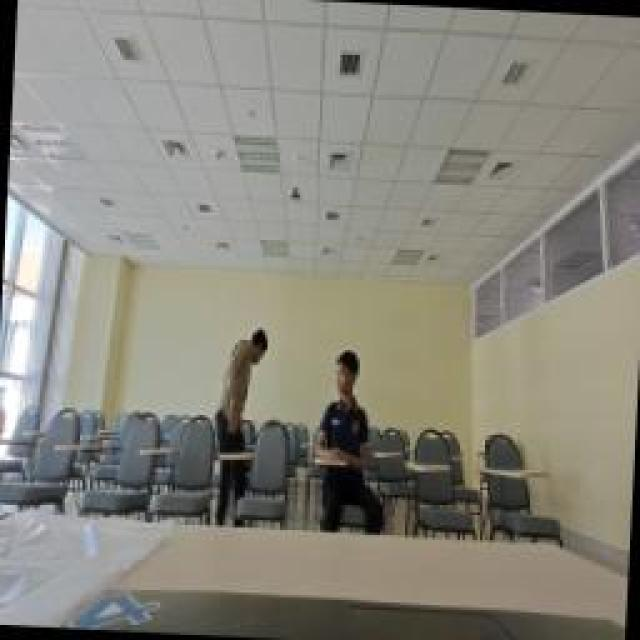study: (308, 345, 392, 530)
